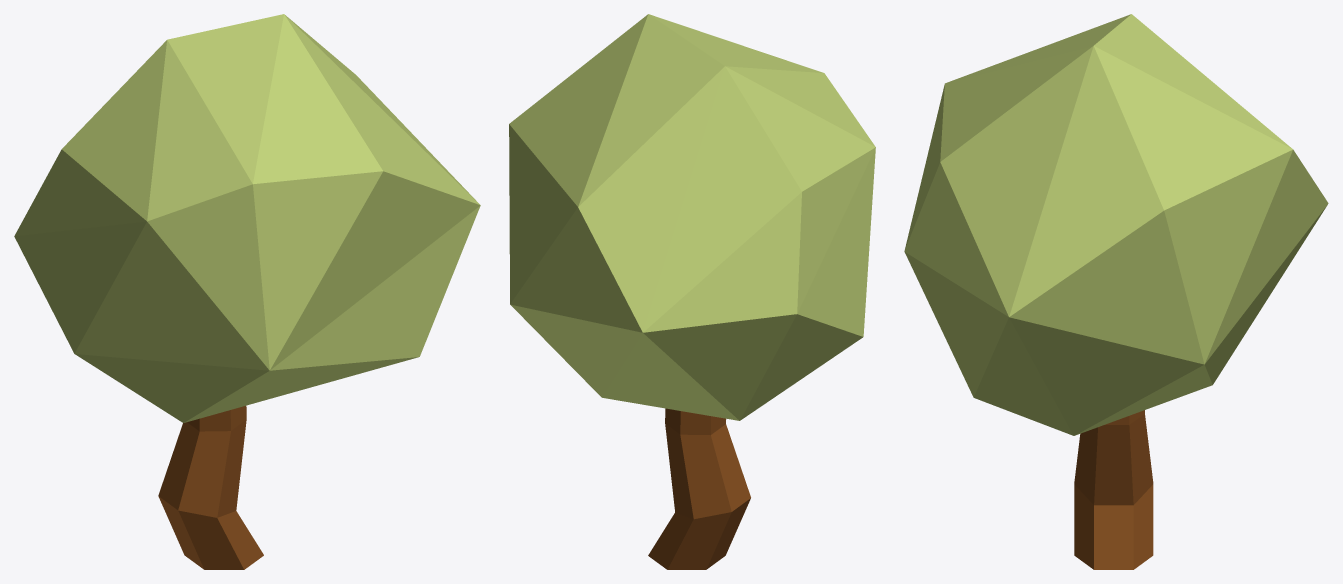
3 views of the same model, side by side, from view 1: azimuth 30°, elevation 25°; view 2: azimuth 150°, elevation 25°; view 3: azimuth 270°, elevation 25° (orthographic). The views are drawn at different scales.
Parts seen in each view (by area): view 1: Bush1; view 2: Bush1; view 3: Bush1.
Part boxes in pixels (bbox=[...]): Bush1: bbox=[14, 14, 480, 569]; Bush1: bbox=[509, 14, 875, 569]; Bush1: bbox=[904, 14, 1328, 569].
Bounding box in the file's own units: 1.07 × 1.49 × 1.07.
